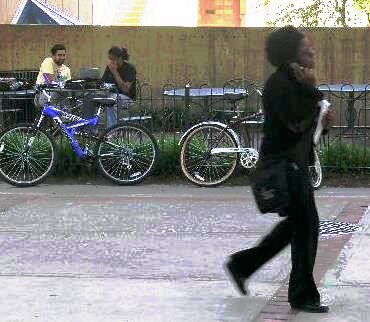person: (229, 18, 349, 316)
